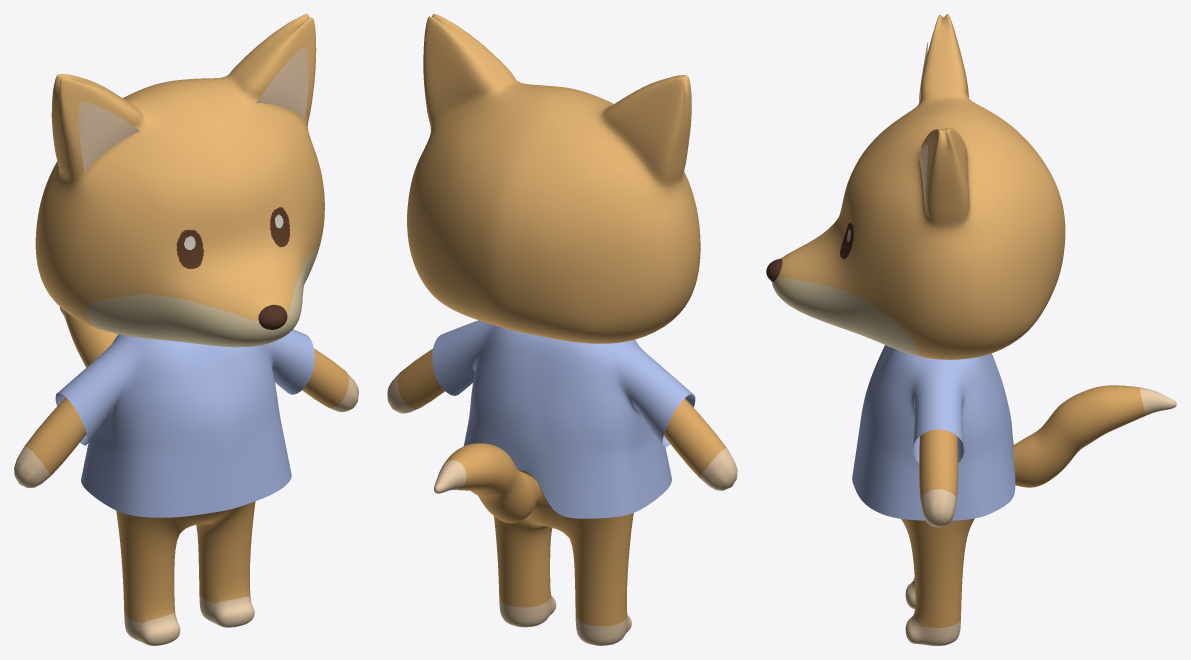
Rendered from fox_NH.glb.
3 views of the same model, side by side, from view 1: azimuth 30°, elevation 25°; view 2: azimuth 150°, elevation 25°; view 3: azimuth 270°, elevation 25° (orthographic). The views are drawn at different scales.
Parts seen in each view (by area): view 1: fox head, fox shirt, fox body, fox ears, fox nose; view 2: fox head, fox shirt, fox body; view 3: fox head, fox shirt, fox body.
Part boxes in pixels (x1,y1,x2,y2): fox head: (35,14,324,347); fox shirt: (55,329,314,517); fox body: (14,307,358,645); fox ears: (78,48,308,173); fox nose: (258,304,287,329); fox head: (407,14,700,343); fox shirt: (432,320,695,518); fox body: (387,349,737,645); fox head: (772,14,1065,359); fox shirt: (852,345,1015,520); fox body: (901,385,1176,645).
Size of the model in its own units: 2.42 by 3.92 by 2.65.
Materials: 6 (1 with a texture image).
